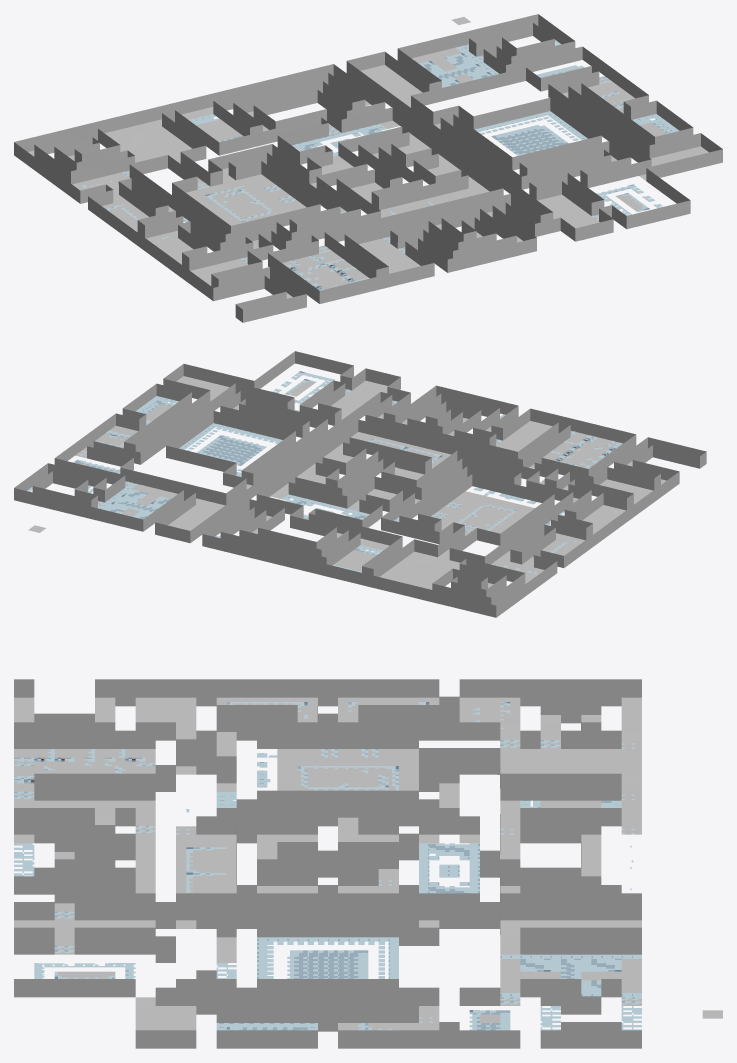
The model's file is map1.gltf.
3 renders of one model, top to bottom at view 1: azimuth 30°, elevation 25°; view 2: azimuth 150°, elevation 25°; view 3: azimuth 270°, elevation 25°, orthographic. The views are drawn at different scales.
Size of the model in its own units: 188 by 4.01 by 140.
